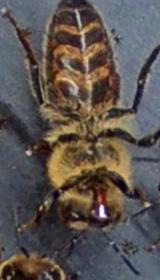varroa_mite: (104, 65, 122, 95)
